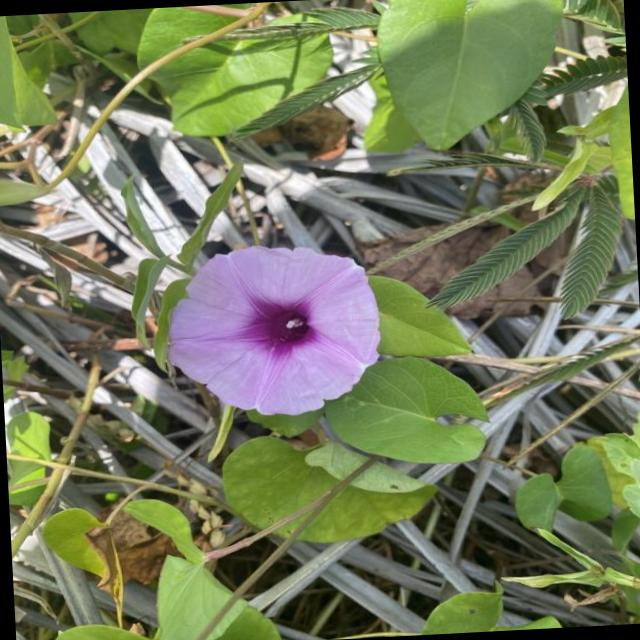ipomoea: (156, 238, 389, 424)
